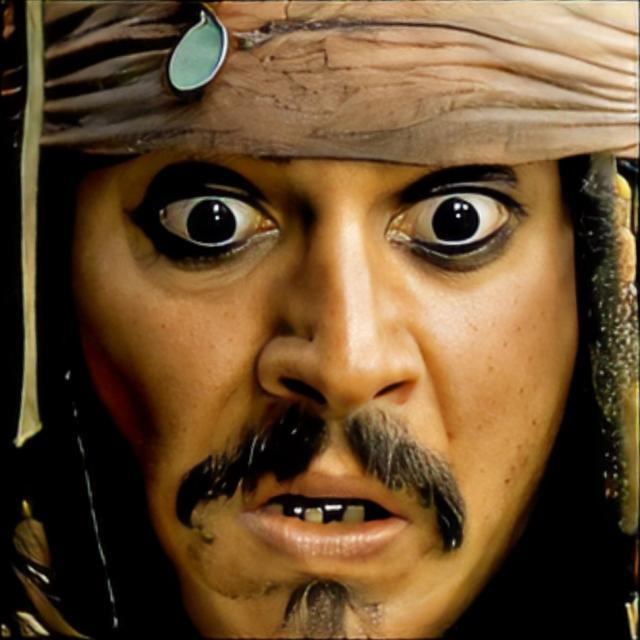Fear: (67, 129, 577, 640)
